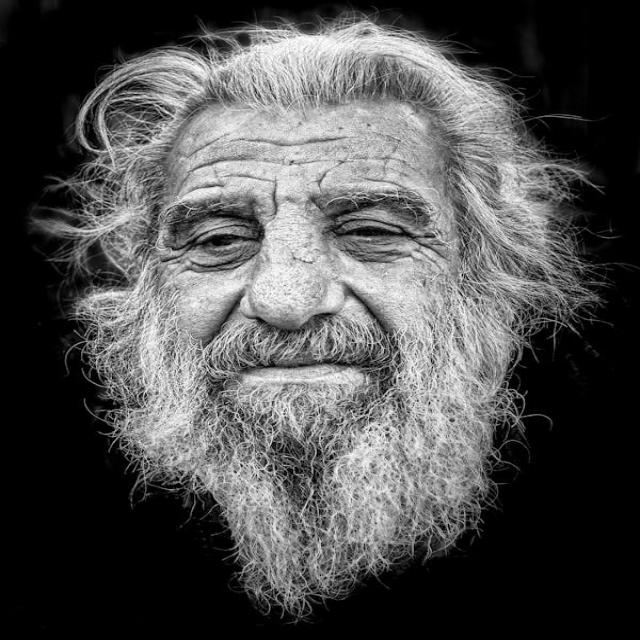no_mask: (54, 47, 635, 621)
